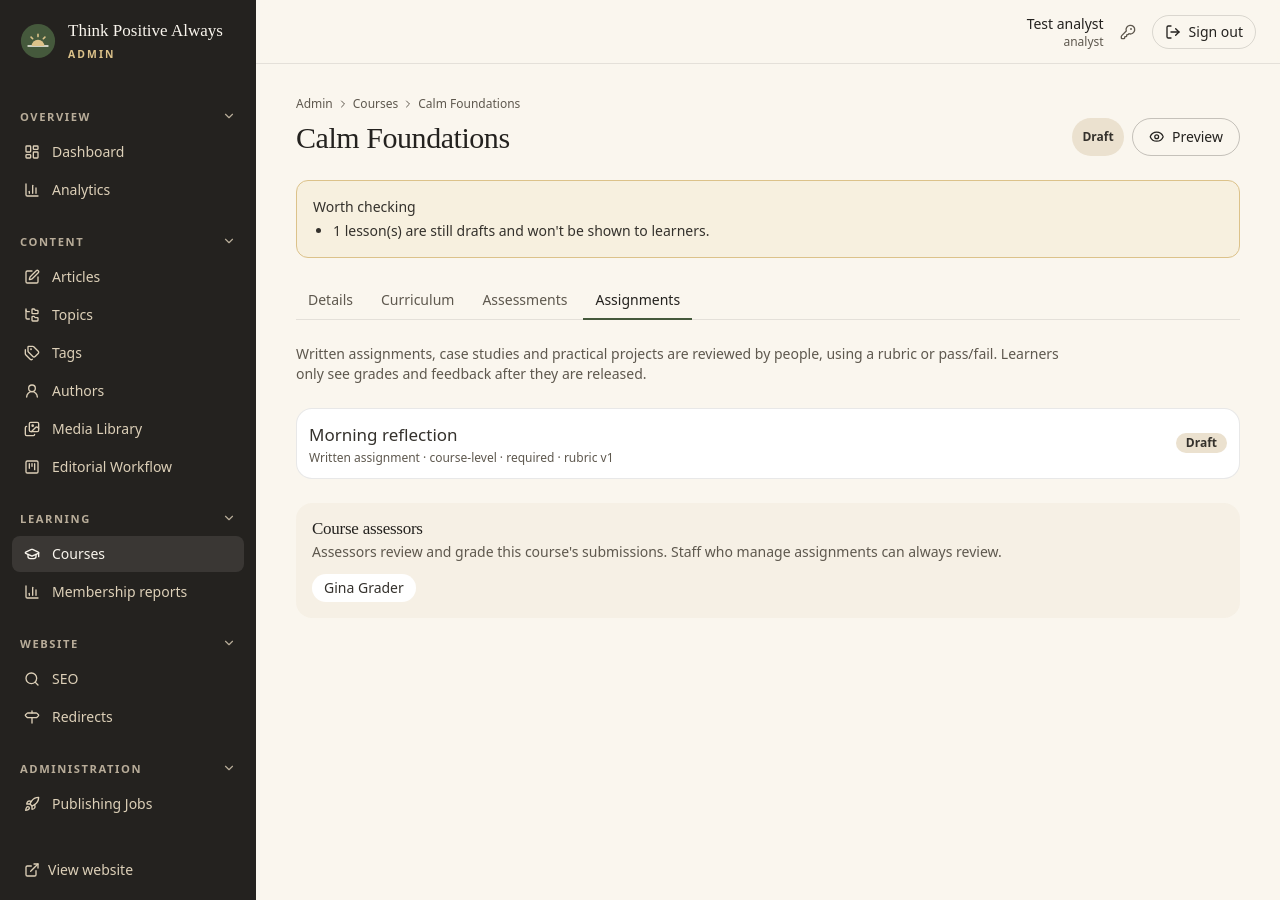
it: assignment management › is read-only for roles that can view but not manage assignments
Click the button "Morning reflection" at (383, 434), box [309,421,614,466]
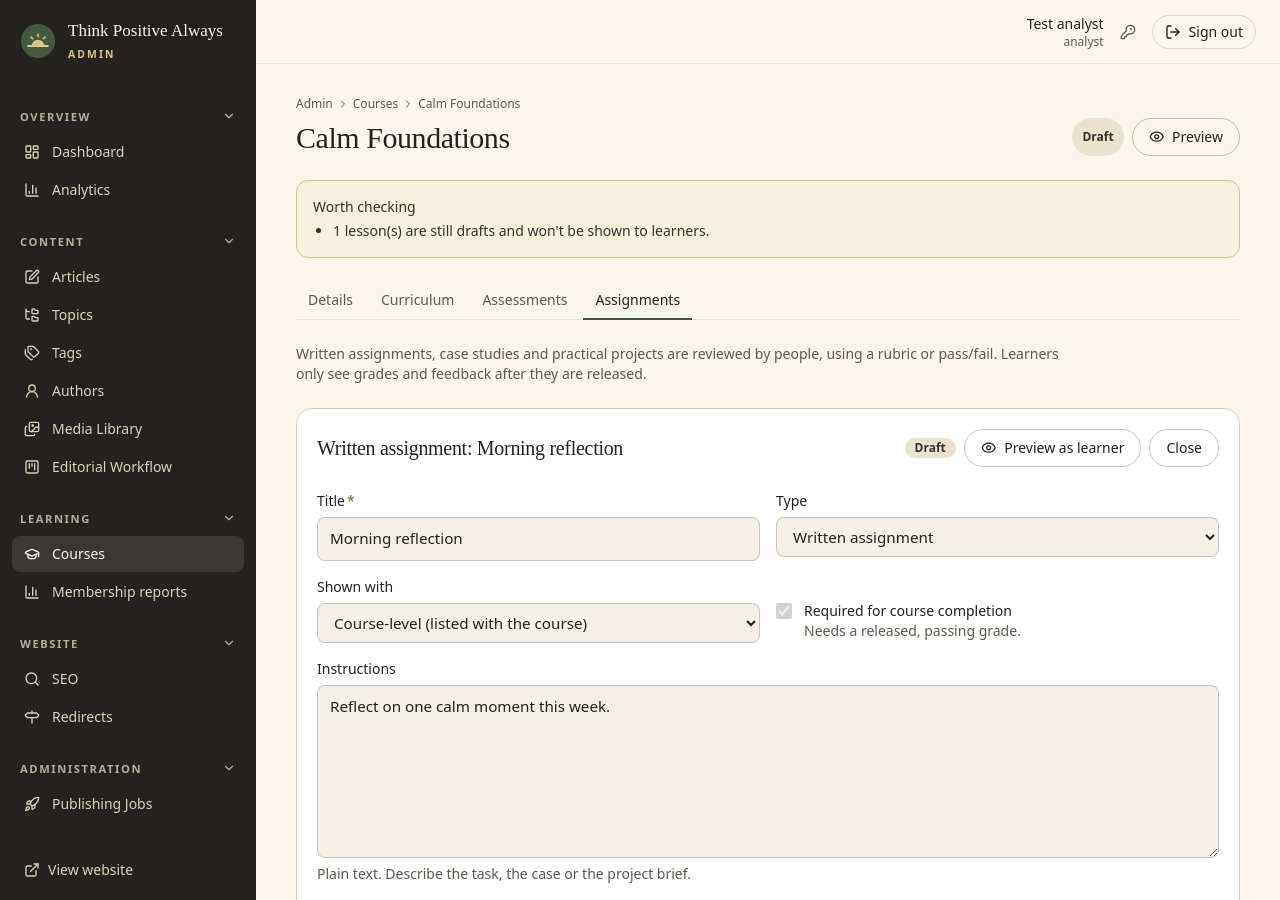
Check: the field labelled "Title*" is disabled, box [317,517,760,561]
